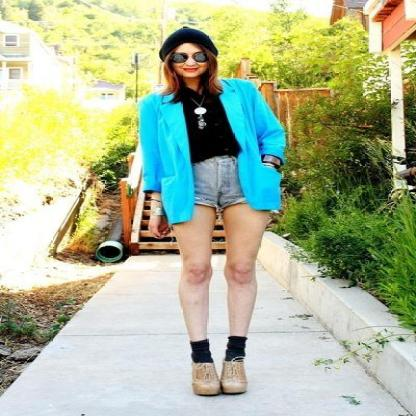hat: (162, 28, 212, 71)
jacket: (139, 78, 285, 224)
shirt: (182, 93, 240, 174)
shoe: (192, 360, 247, 397)
shorts: (195, 158, 249, 218)
